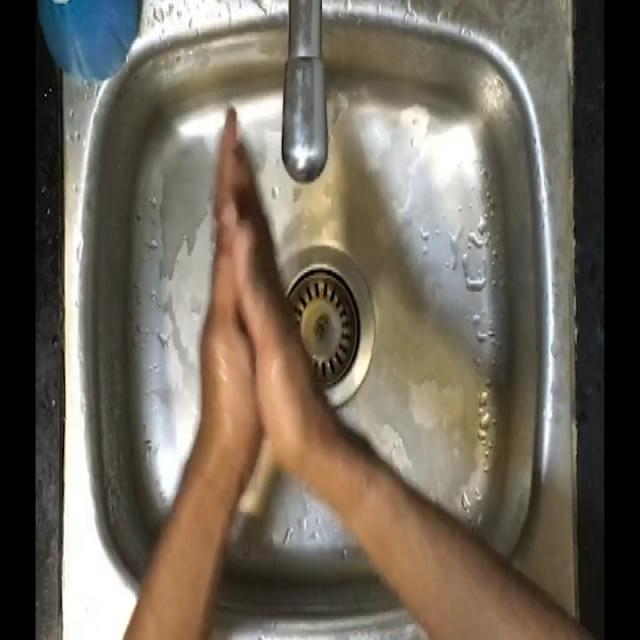step_1: (171, 83, 327, 442)
